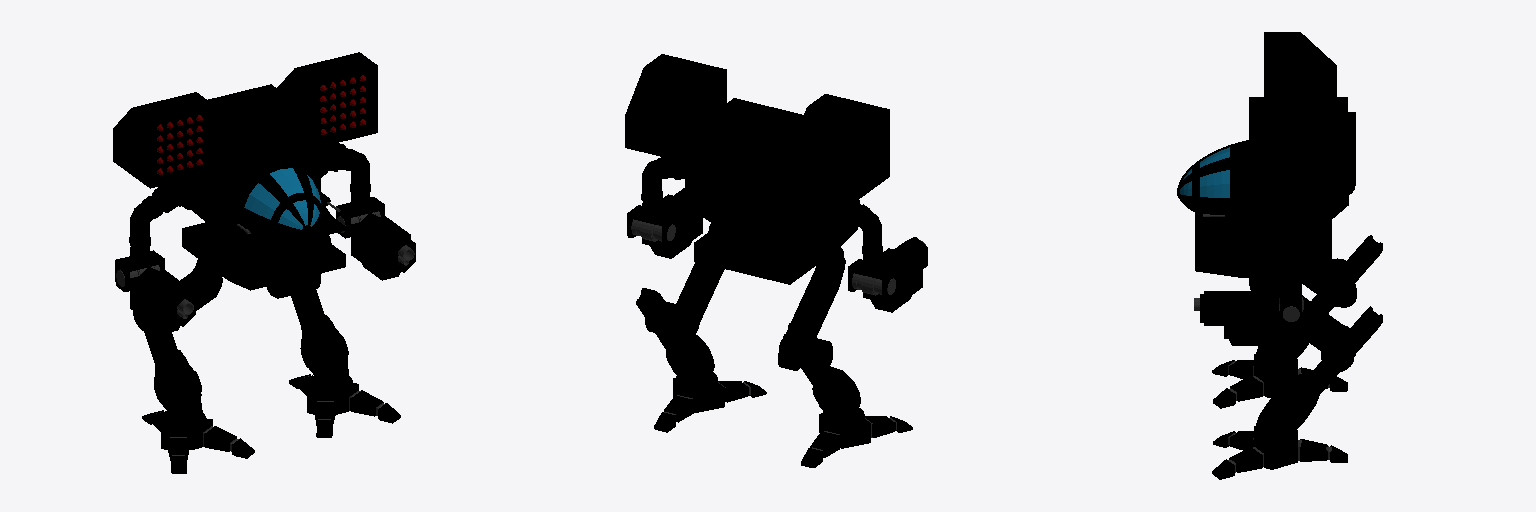
File: Mech.obj
3 views of the same model, side by side, from view 1: azimuth 30°, elevation 25°; view 2: azimuth 150°, elevation 25°; view 3: azimuth 270°, elevation 25° (orthographic).
Visible parts, largest first — view 1: polySurface477; view 2: polySurface477; view 3: polySurface477.
Boxes of the visible parts, x1=… form: polySurface477: x1=113, y1=52, x2=415, y2=473; polySurface477: x1=625, y1=54, x2=927, y2=467; polySurface477: x1=1177, y1=32, x2=1382, y2=479.
Size of the model in its own units: 0.9603 by 1.19 by 0.661.